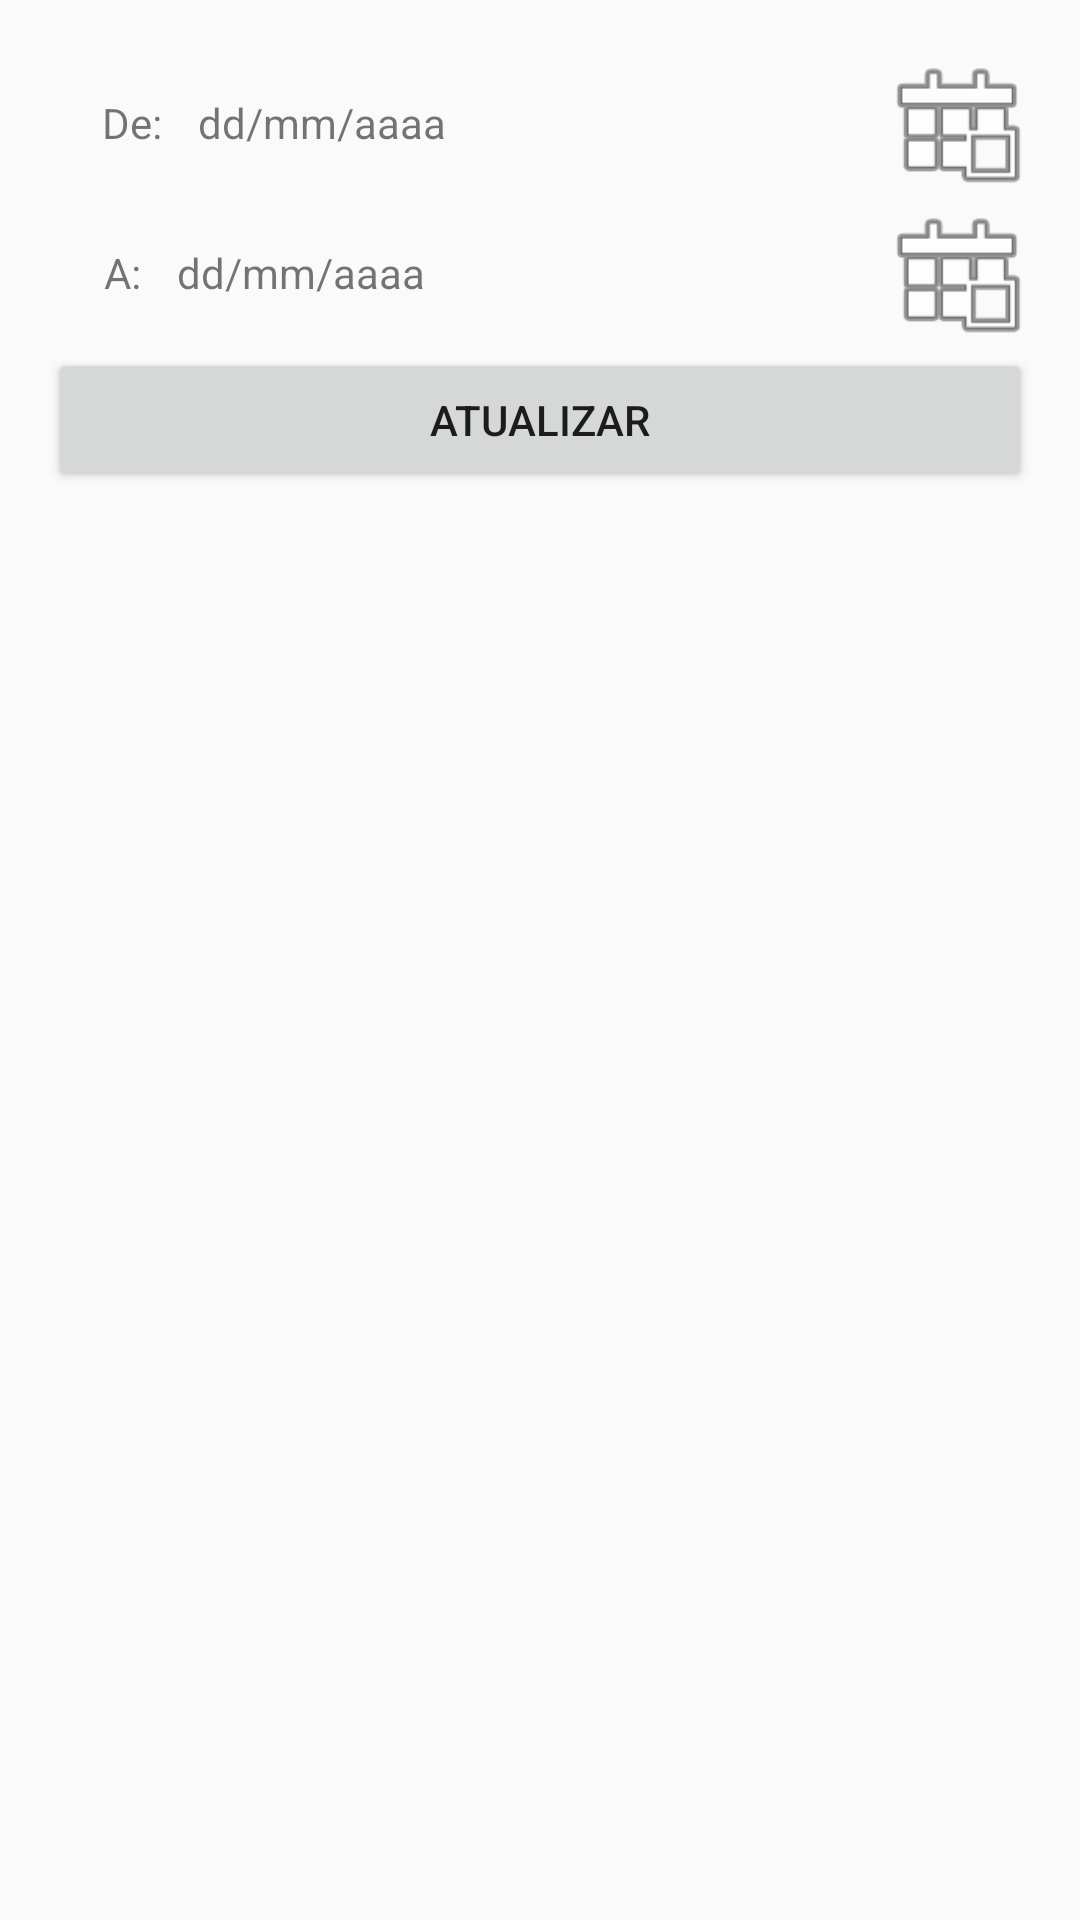

Locate icon controls on the screen. Image size 1080*1920, boxes as [x1,y1,x2,y2].
today: [897,68,1020,183], [897,218,1020,333]
